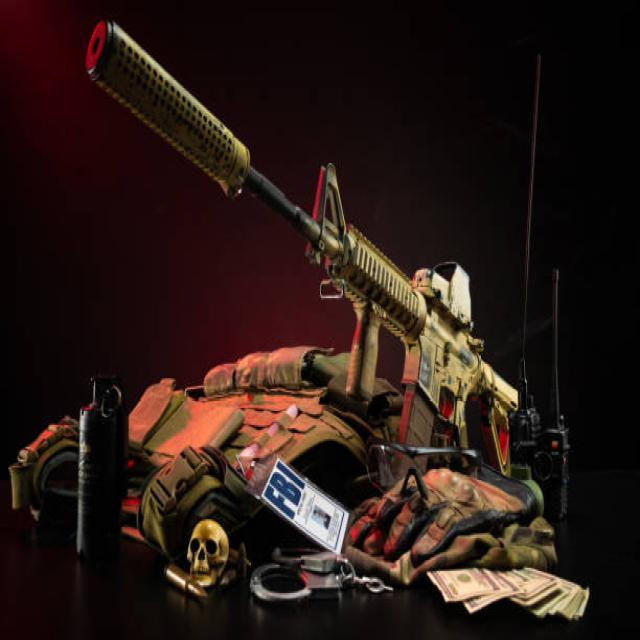grenade: (75, 367, 131, 564)
